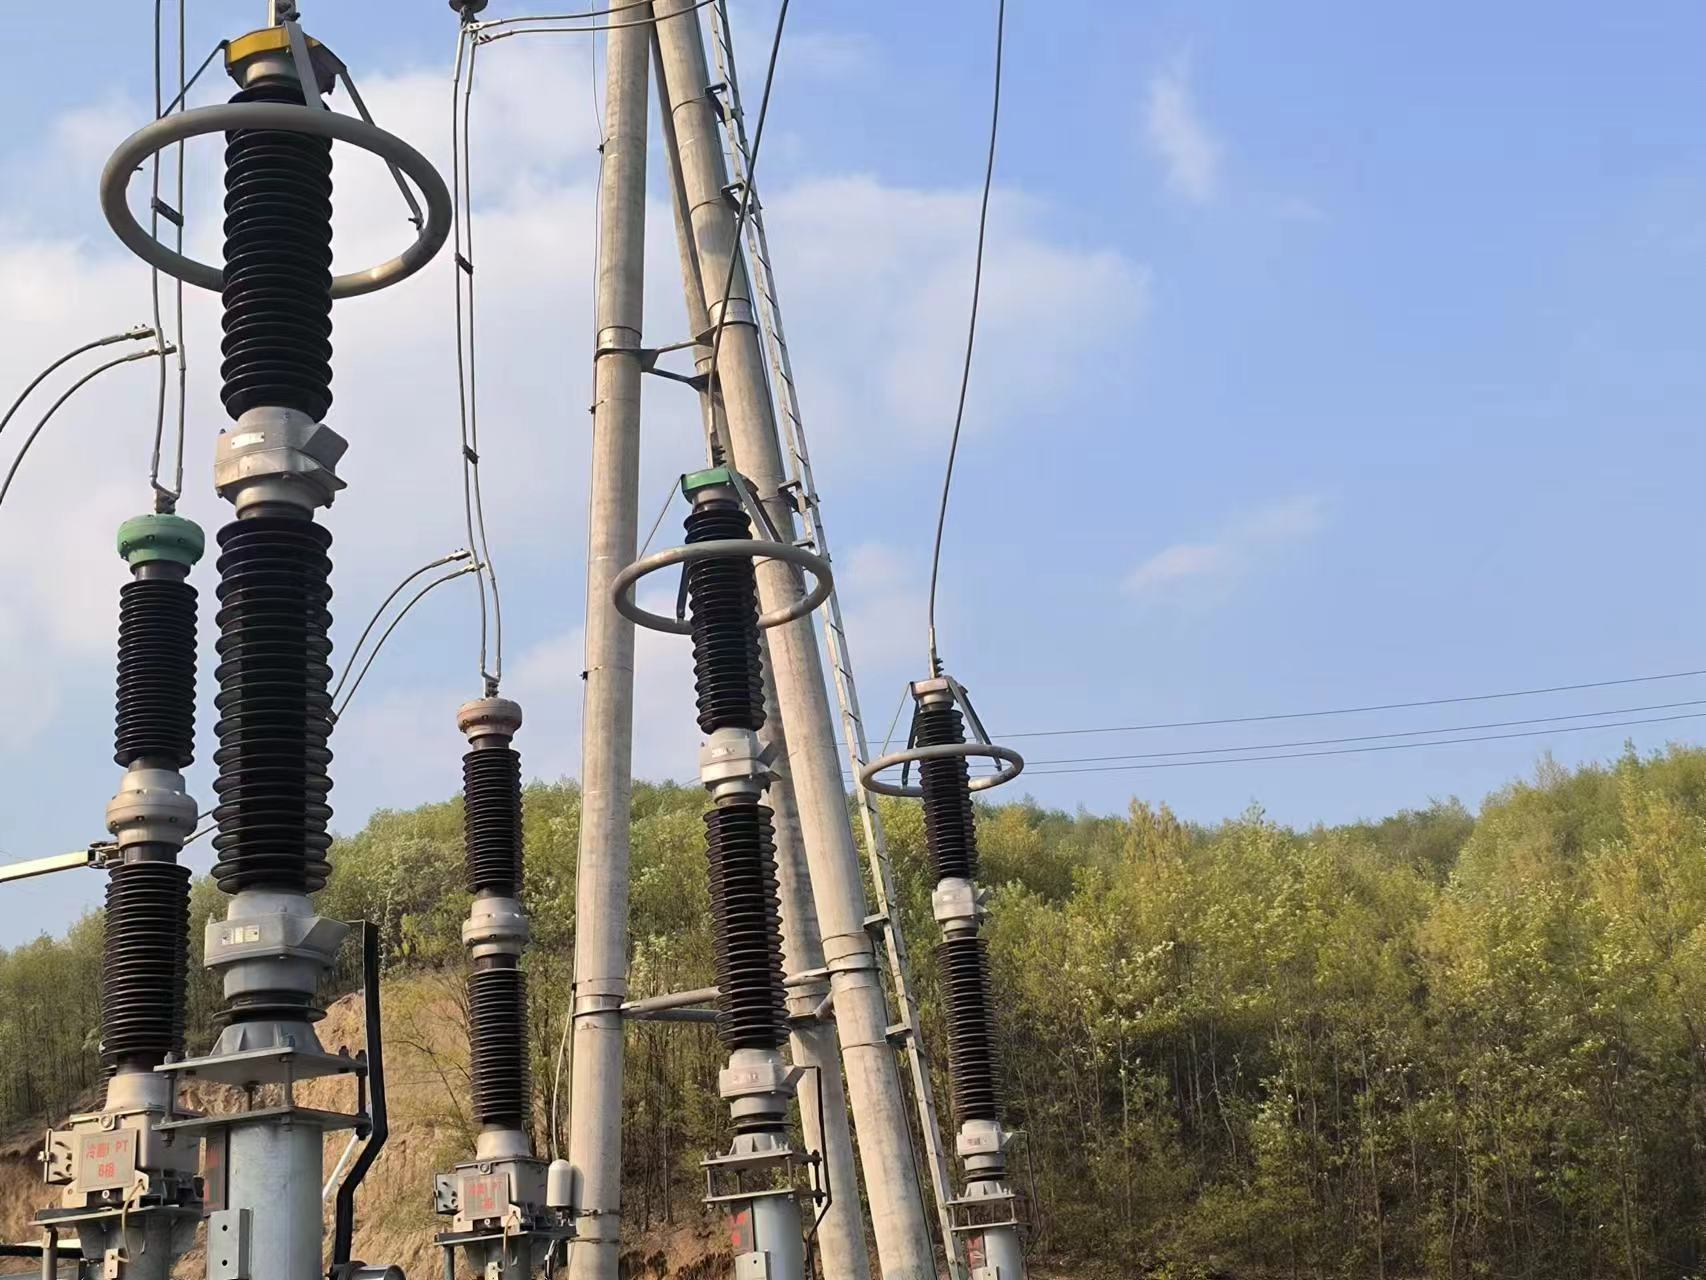Arrester: (95, 30, 456, 904), (612, 475, 836, 1143), (859, 674, 1028, 1174)
